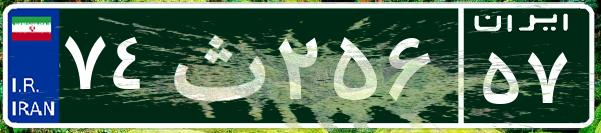2: (273, 28, 330, 110)
4: (110, 28, 158, 105)
5: (330, 28, 385, 110), (475, 38, 525, 113)
6: (385, 28, 445, 110)
7: (57, 26, 110, 107), (525, 38, 570, 115)
ث: (158, 15, 273, 115)
